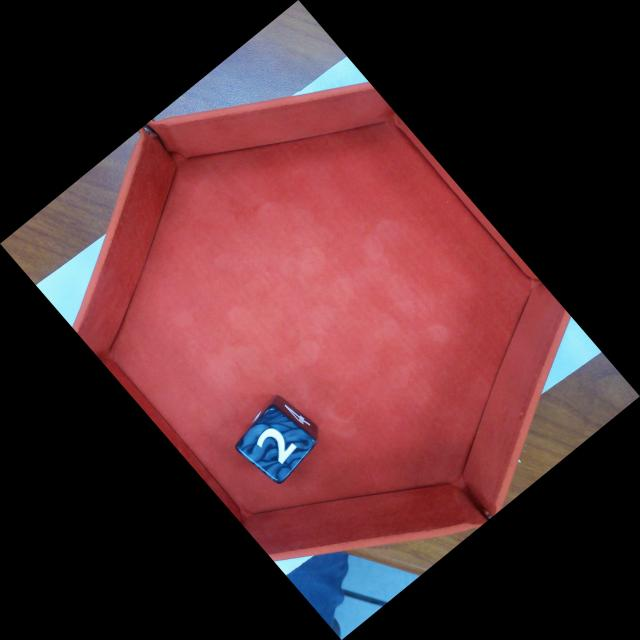dice: (239, 405, 317, 484)
